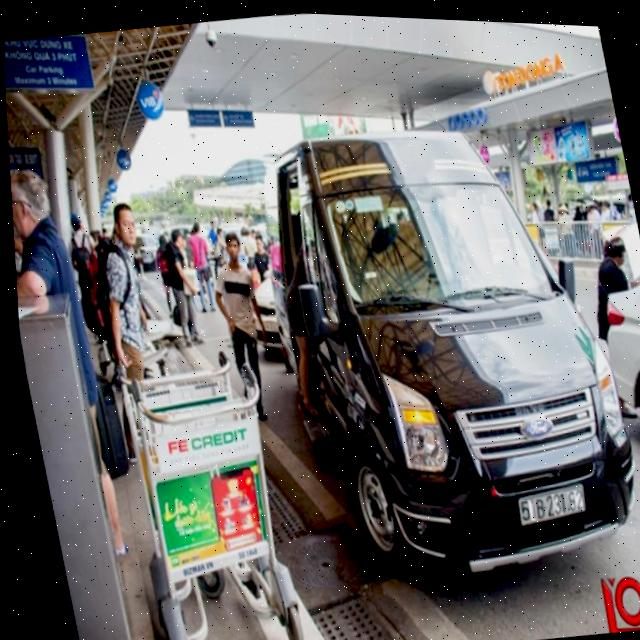car: (255, 86, 640, 613), (586, 265, 640, 485)
plate: (511, 480, 592, 530)
